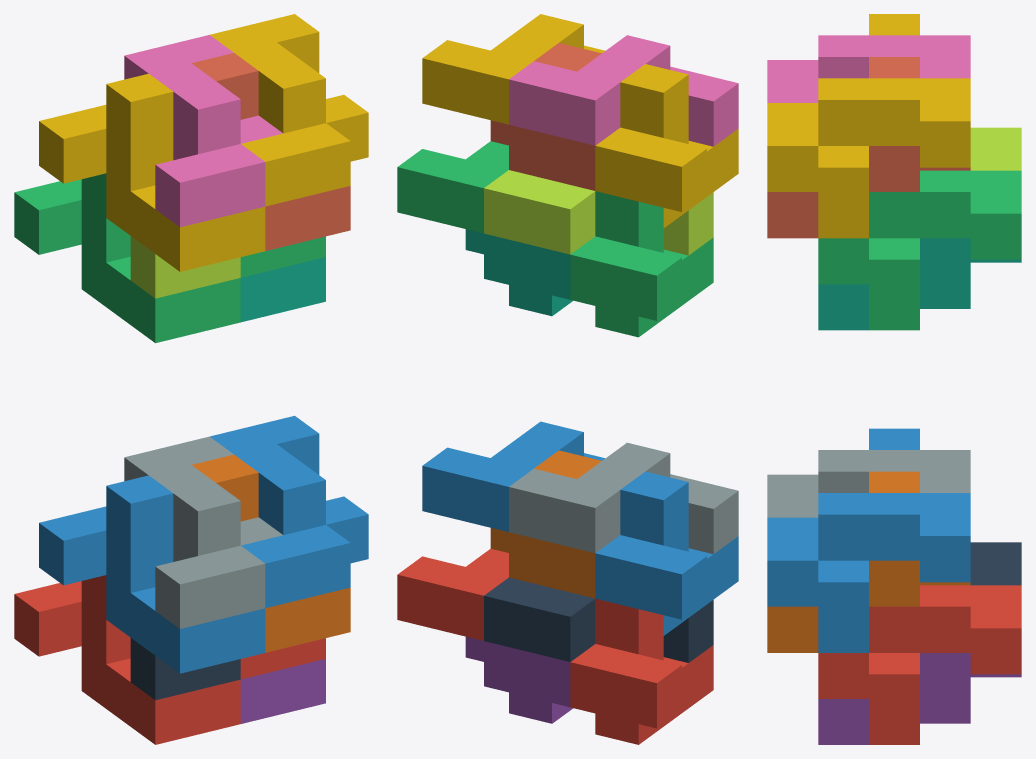
File: tiling.obj
3 renders of one model, left to right at view 1: azimuth 30°, elevation 25°; view 2: azimuth 150°, elevation 25°; view 3: azimuth 270°, elevation 25°, orthographic. The views are drawn at different scales.
Parts seen in each view (by area): view 1: copy_1_domain_2, copy_1_domain_4, copy_2_domain_6, copy_2_domain_8, copy_2_domain_4, copy_2_domain_2, copy_1_domain_1, copy_1_domain_3, copy_1_domain_6, copy_1_domain_8, copy_1_domain_5, copy_1_domain_7 (+4 smaller); view 2: copy_1_domain_4, copy_1_domain_2, copy_1_domain_1, copy_1_domain_3, copy_2_domain_2, copy_2_domain_4, copy_2_domain_3, copy_2_domain_1, copy_2_domain_6, copy_2_domain_8, copy_2_domain_5, copy_2_domain_7 (+4 smaller); view 3: copy_2_domain_6, copy_2_domain_8, copy_2_domain_7, copy_2_domain_5, copy_2_domain_4, copy_2_domain_2, copy_1_domain_7, copy_1_domain_5, copy_1_domain_6, copy_1_domain_8, copy_2_domain_1, copy_2_domain_3 (+2 smaller).
Boxes of the visible parts, bbox=[...] form: copy_1_domain_2: bbox=[39, 475, 265, 673]; copy_1_domain_4: bbox=[39, 73, 265, 271]; copy_2_domain_6: bbox=[210, 415, 368, 608]; copy_2_domain_8: bbox=[210, 14, 368, 206]; copy_2_domain_4: bbox=[124, 35, 282, 227]; copy_2_domain_2: bbox=[124, 436, 282, 628]; copy_1_domain_1: bbox=[14, 575, 240, 744]; copy_1_domain_3: bbox=[14, 173, 240, 343]; copy_1_domain_6: bbox=[192, 454, 350, 652]; copy_1_domain_8: bbox=[192, 53, 350, 250]; copy_1_domain_5: bbox=[240, 659, 325, 723]; copy_1_domain_7: bbox=[240, 257, 325, 322]; copy_1_domain_4: bbox=[595, 64, 738, 228]; copy_1_domain_2: bbox=[595, 471, 738, 635]; copy_1_domain_1: bbox=[570, 598, 713, 744]; copy_1_domain_3: bbox=[570, 191, 713, 337]; copy_2_domain_2: bbox=[509, 442, 738, 554]; copy_2_domain_4: bbox=[509, 35, 738, 146]; copy_2_domain_3: bbox=[484, 170, 713, 255]; copy_2_domain_1: bbox=[484, 577, 713, 662]; copy_2_domain_6: bbox=[422, 421, 604, 531]; copy_2_domain_8: bbox=[422, 14, 605, 124]; copy_2_domain_5: bbox=[397, 548, 508, 640]; copy_2_domain_7: bbox=[397, 141, 508, 233]; copy_2_domain_6: bbox=[767, 493, 970, 652]; copy_2_domain_8: bbox=[767, 78, 970, 238]; copy_2_domain_7: bbox=[818, 170, 1021, 330]; copy_2_domain_5: bbox=[818, 585, 1021, 744]; copy_2_domain_4: bbox=[767, 35, 970, 102]; copy_2_domain_2: bbox=[767, 450, 970, 517]; copy_1_domain_7: bbox=[818, 238, 1021, 330]; copy_1_domain_5: bbox=[818, 653, 1021, 744]; copy_1_domain_6: bbox=[767, 471, 970, 652]; copy_1_domain_8: bbox=[767, 57, 970, 238]; copy_2_domain_1: bbox=[970, 542, 1021, 585]; copy_2_domain_3: bbox=[970, 127, 1021, 170].
Size of the model in its own units: 6 by 14 by 5.
